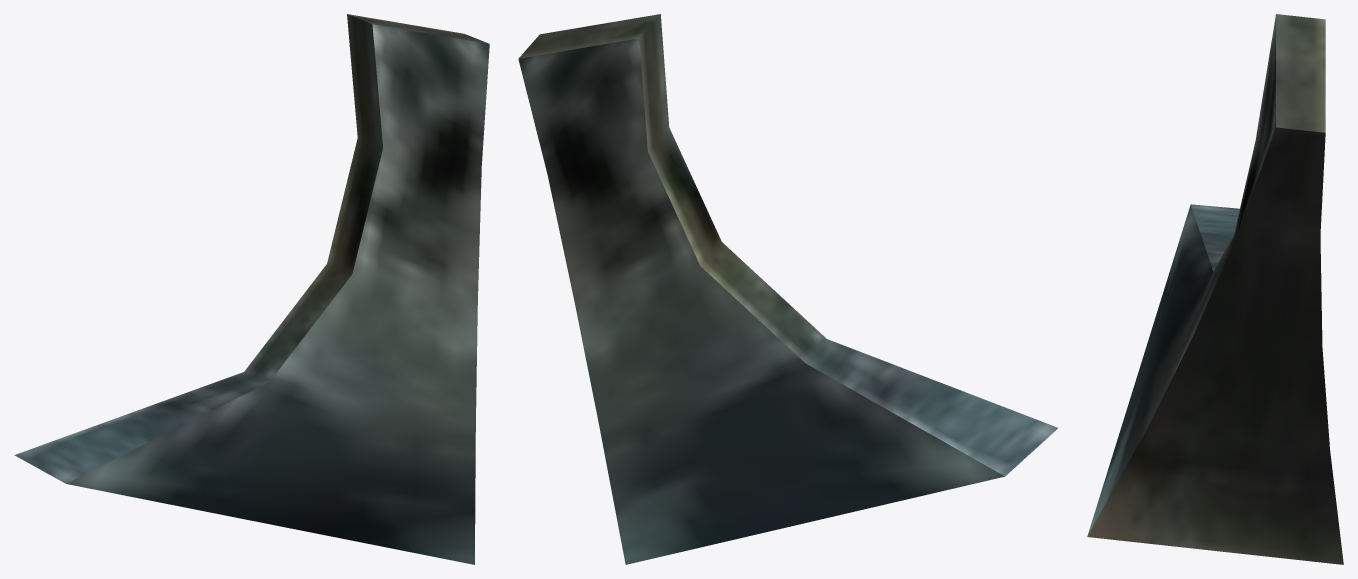
The picture shows the model from 3 angles, left to right: view 1: azimuth 30°, elevation 25°; view 2: azimuth 150°, elevation 25°; view 3: azimuth 270°, elevation 25°; orthographic projection. The views are drawn at different scales.
Visible parts, largest first — view 1: model_Object49; view 2: model_Object49; view 3: model_Object49.
Boxes of the visible parts, left/top/right/bottom form: model_Object49: left=14, top=14, right=489, bottom=564; model_Object49: left=518, top=14, right=1057, bottom=564; model_Object49: left=1087, top=14, right=1343, bottom=564.
Bounding box in the file's own units: 1.11 × 1.17 × 0.4967.
Materials: 1 (1 with a texture image).
